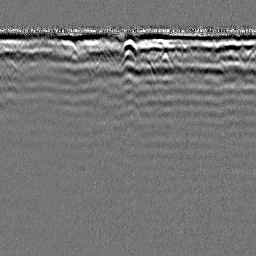cavity: (119, 38, 138, 58)
